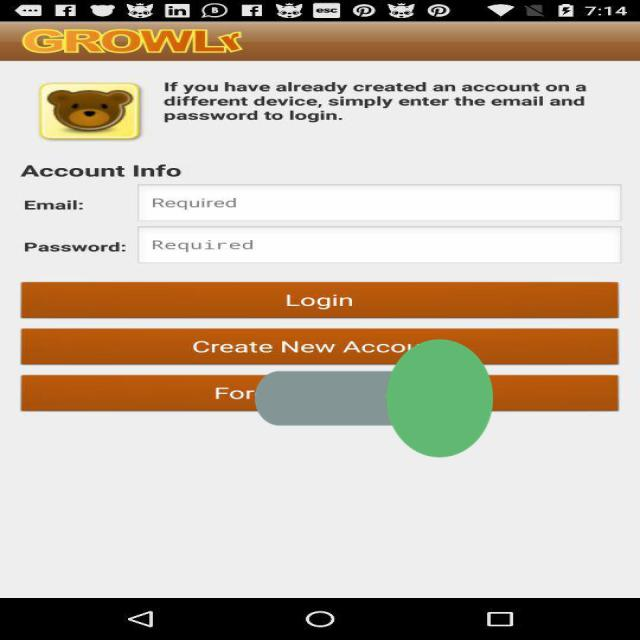social proof: (255, 267, 493, 530)
